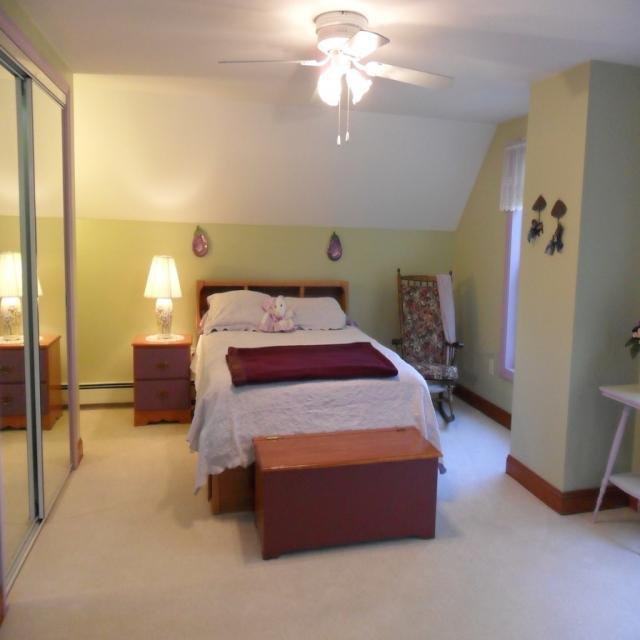bulb_on: (345, 68, 376, 105), (317, 66, 344, 107), (324, 58, 352, 80)
fan_off: (218, 19, 458, 90)
